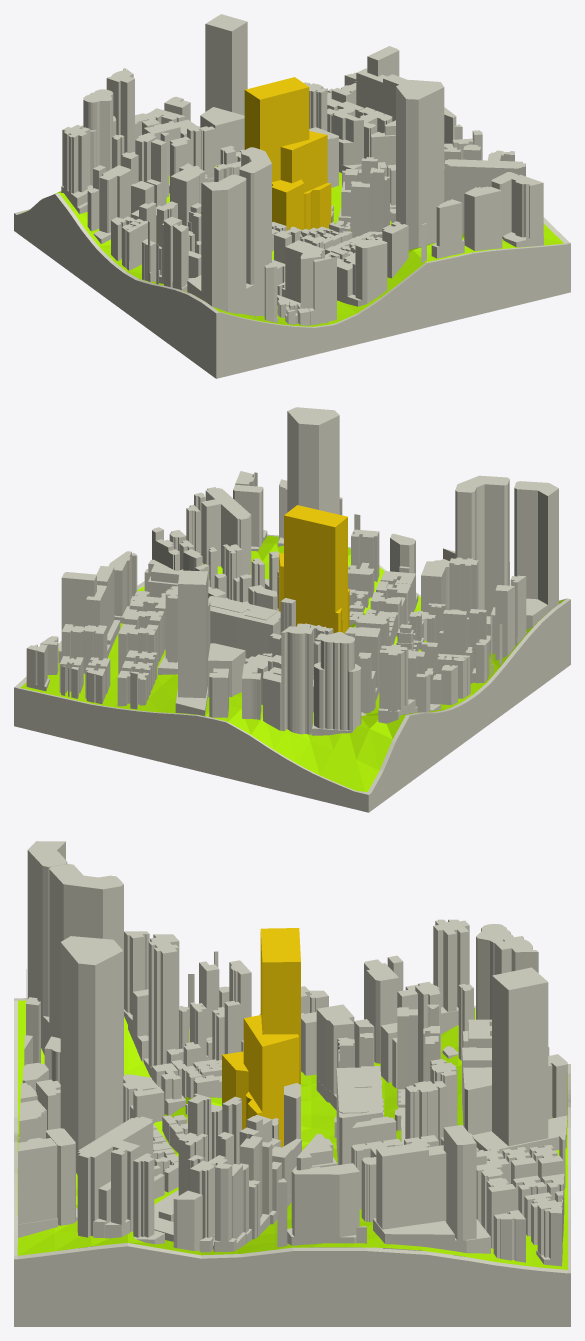
The model's file is 米黃色加橙.glb.
The picture shows the model from 3 angles, top to bottom: view 1: azimuth 30°, elevation 25°; view 2: azimuth 150°, elevation 25°; view 3: azimuth 270°, elevation 25°; orthographic projection. The views are drawn at different scales.
Parts seen in each view (by area): view 1: Model, Group680, Group519, Group304, Group395, Group43, Group215, Group679, Group357, Group154, Group224, Group25 (+44 smaller); view 2: Model, Group679, Group680, Group395, Group215, Group519, Group304, Group43, Group637, Group357, Group172, Group82 (+44 smaller); view 3: Group680, Group519, Group679, Model, Group43, Group215, Group45, Group357, Group395, Group196, Group304, Group224 (+66 smaller).
Part boxes in pixels (x1,y1,x2,y2): Model: [14, 208, 570, 378]; Group680: [15, 193, 568, 372]; Group519: [396, 79, 444, 249]; Group304: [201, 174, 246, 314]; Group395: [244, 77, 309, 181]; Group43: [205, 14, 247, 115]; Group215: [239, 147, 271, 315]; Group679: [24, 165, 563, 326]; Group357: [444, 154, 525, 234]; Group154: [464, 186, 502, 250]; Group224: [280, 131, 327, 192]; Group25: [285, 240, 324, 308]; Model: [14, 534, 570, 812]; Group679: [20, 535, 564, 791]; Group680: [15, 581, 569, 795]; Group395: [284, 505, 347, 633]; Group215: [455, 475, 509, 616]; Group519: [287, 407, 339, 514]; Group304: [514, 481, 558, 612]; Group43: [178, 570, 208, 698]; Group637: [281, 623, 313, 734]; Group357: [201, 487, 251, 575]; Group172: [314, 662, 361, 730]; Group82: [208, 596, 280, 658]; Group680: [17, 998, 567, 1320]; Group519: [60, 936, 123, 1174]; Group679: [17, 1000, 567, 1269]; Model: [14, 998, 570, 1326]; Group43: [492, 967, 548, 1146]; Group215: [49, 864, 123, 1076]; Group45: [292, 1163, 359, 1247]; Group357: [77, 1116, 153, 1248]; Group395: [260, 928, 300, 1079]; Group196: [376, 1142, 428, 1229]; Group304: [27, 841, 67, 1049]; Group224: [243, 1015, 298, 1146].
Bounding box in the file's own units: 32.52 × 18.69 × 32.11.
